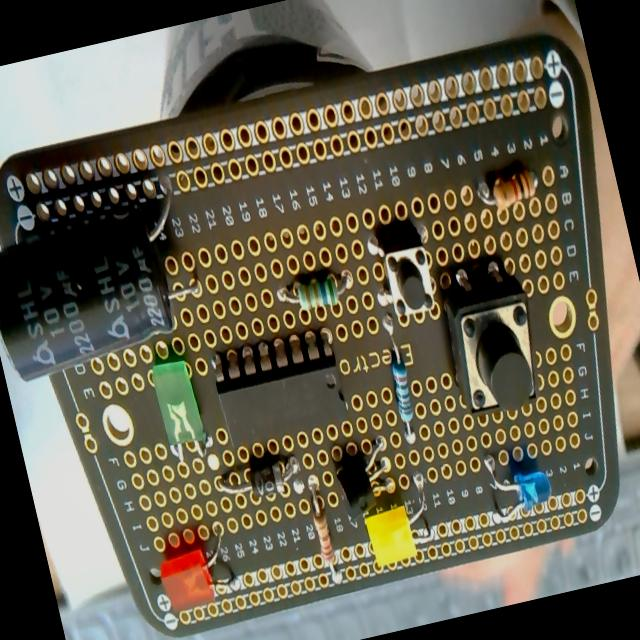Electrolytic capacitor: (0, 176, 221, 401)
IC: (204, 323, 358, 455)
led: (142, 347, 218, 473), (150, 524, 244, 618), (469, 440, 565, 532), (358, 495, 442, 571)
resistor: (373, 309, 425, 452), (266, 258, 364, 316), (298, 474, 346, 589), (466, 156, 552, 216)
switch: (439, 267, 558, 434), (370, 224, 446, 325)
